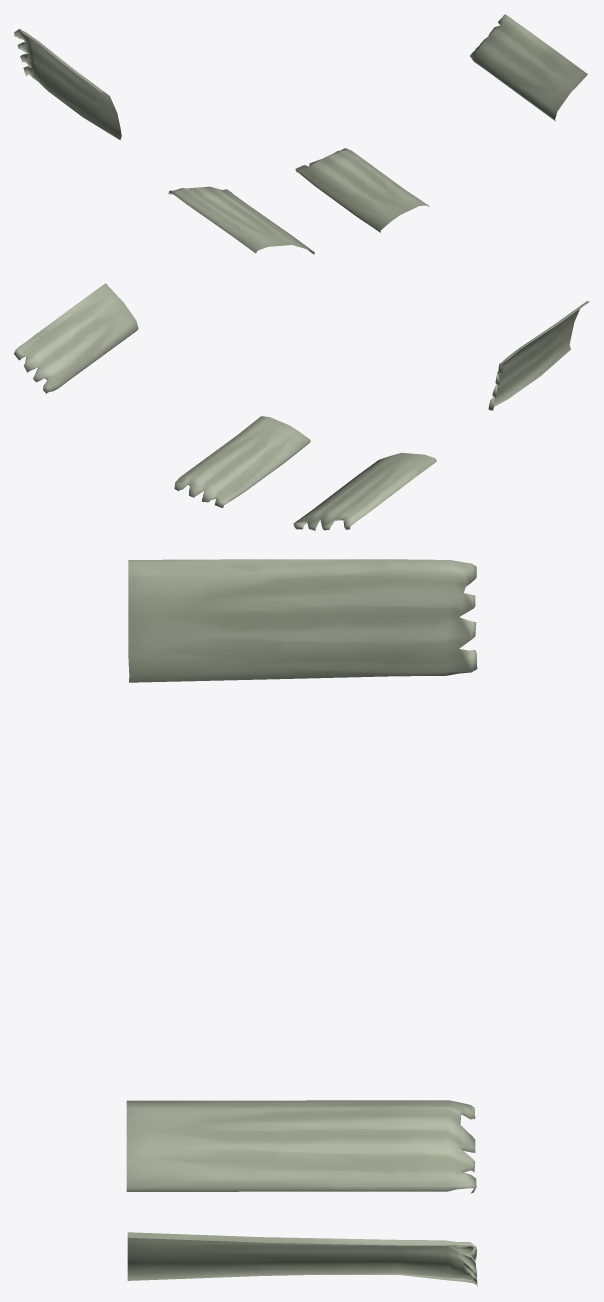
File: curtains.fbx
3 views of the same model, one above another, from view 1: azimuth 30°, elevation 25°; view 2: azimuth 150°, elevation 25°; view 3: azimuth 270°, elevation 25° (orthographic). The views are drawn at different scales.
Parts seen in each view (by area): view 1: Plane.002; view 2: Plane.002; view 3: Plane.002.
Boxes of the visible parts, bbox=[...] form: Plane.002: bbox=[14, 14, 587, 254]; Plane.002: bbox=[14, 283, 589, 530]; Plane.002: bbox=[126, 559, 477, 1286].
Size of the model in its own units: 736 by 310 by 228.
